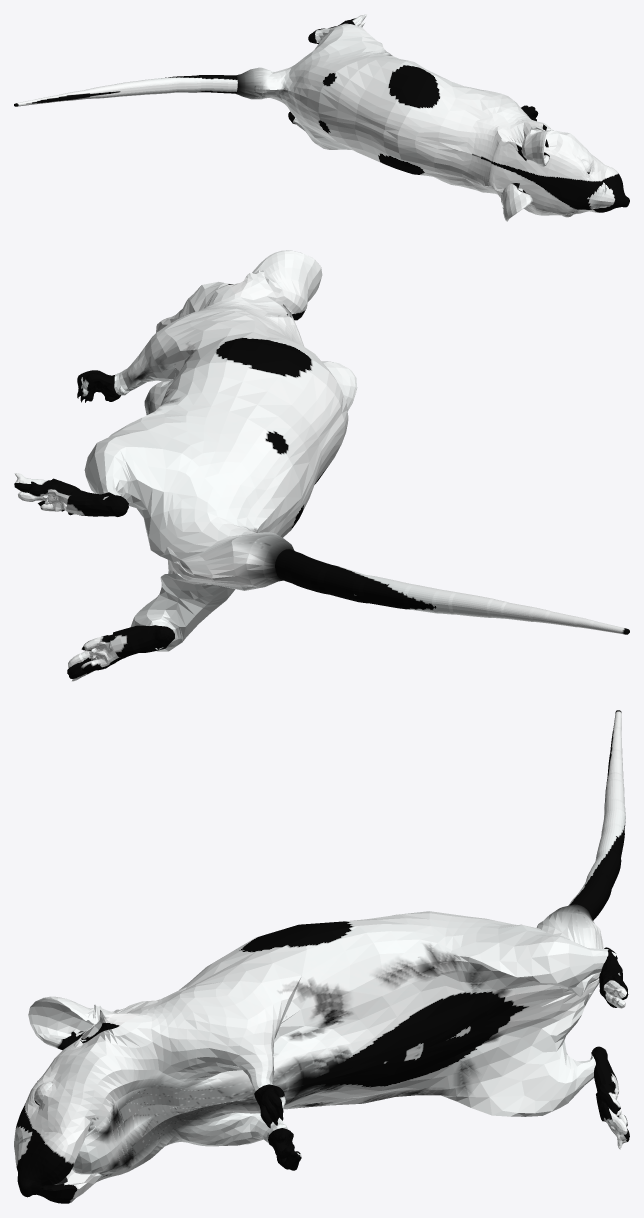
Rendered from mouse_frame3.obj.
The picture shows the model from 3 angles, top to bottom: view 1: azimuth 30°, elevation 25°; view 2: azimuth 150°, elevation 25°; view 3: azimuth 270°, elevation 25°; orthographic projection. The views are drawn at different scales.
Size of the model in its own units: 112 by 31.5 by 81.72.
1 material, 1 textured.
